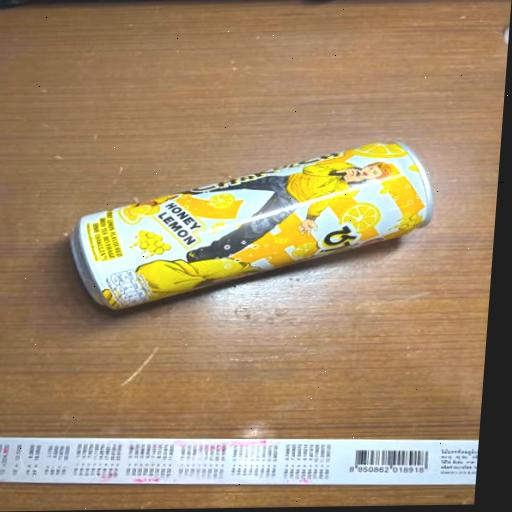canned: (57, 128, 453, 324)
